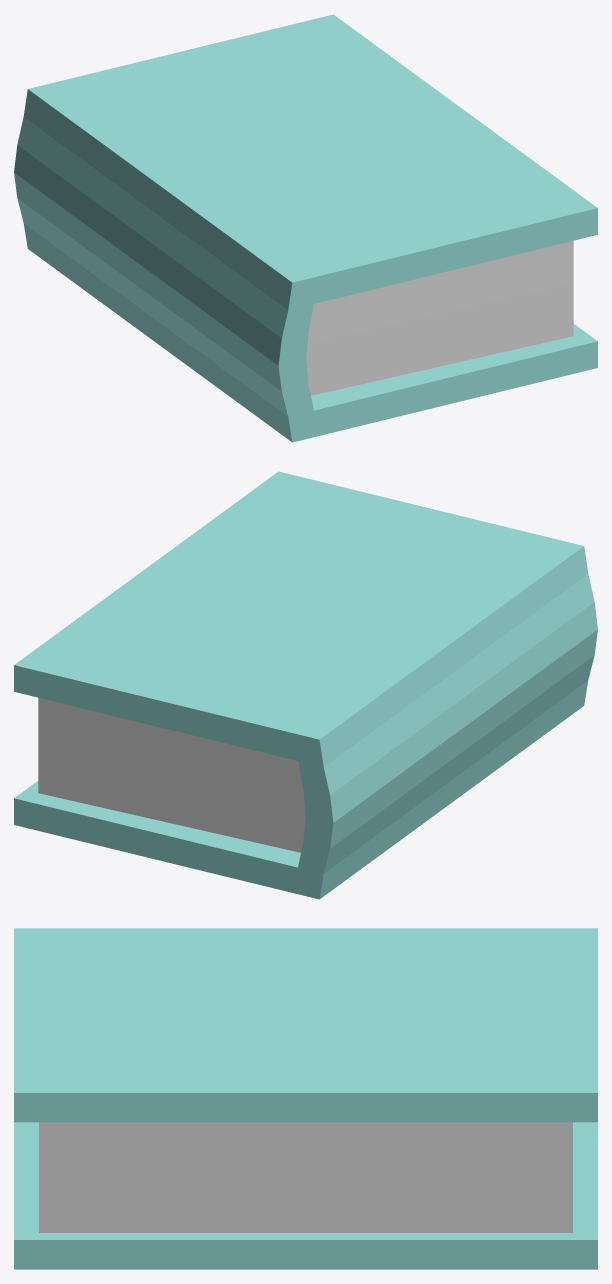
Rendered from bog3.glb.
The picture shows the model from 3 angles, top to bottom: view 1: azimuth 30°, elevation 25°; view 2: azimuth 150°, elevation 25°; view 3: azimuth 270°, elevation 25°; orthographic projection. The views are drawn at different scales.
Parts seen in each view (by area): view 1: Cube; view 2: Cube; view 3: Cube.
Part boxes in pixels (bbox=[...]): Cube: bbox=[14, 14, 597, 442]; Cube: bbox=[14, 471, 597, 899]; Cube: bbox=[14, 928, 597, 1269].
Size of the model in its own units: 1.05 by 0.5 by 1.5.
